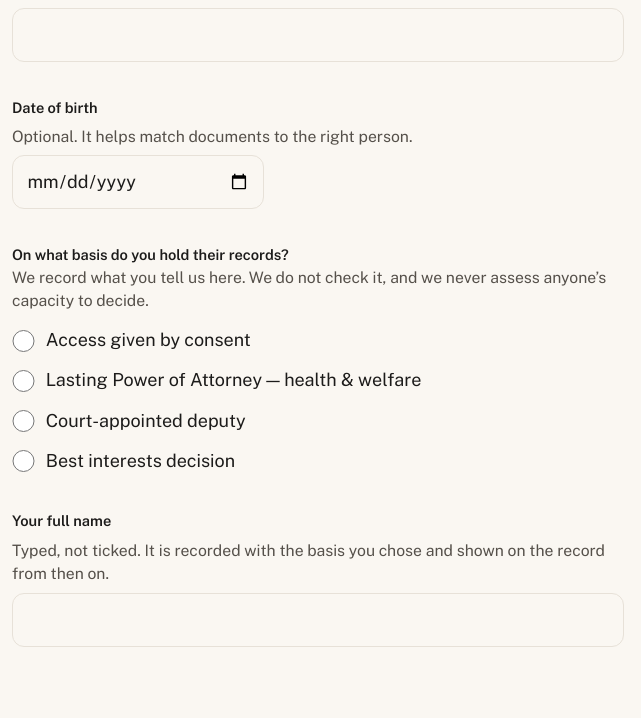
Test: WelcomeForm › blocks a missing basis, then a missing declared name, in that order
Type "Margaret Ellis" into the field labelled "Who are you caring for?". click: coordinates (318, 35)
box: x1=12 y1=8 x2=624 y2=62
(page scrolled)
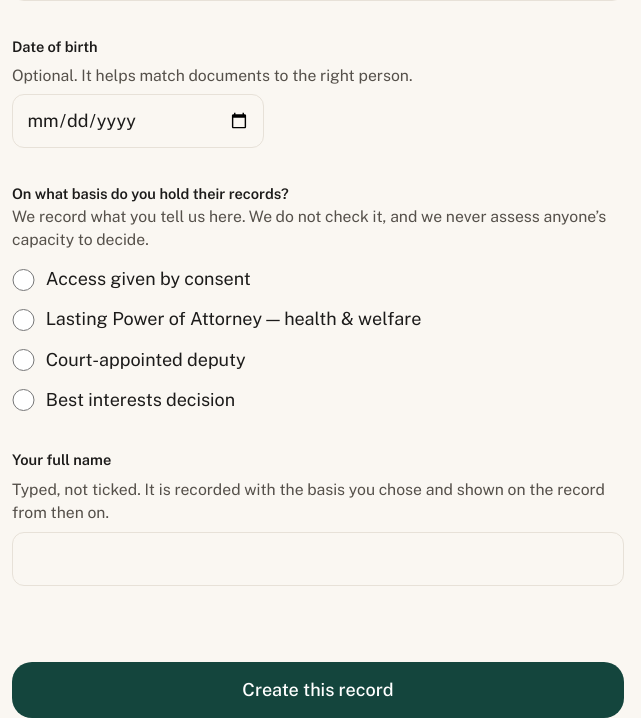
Click the button "Create this record". click: coordinates (318, 690)
box: x1=12 y1=662 x2=624 y2=717
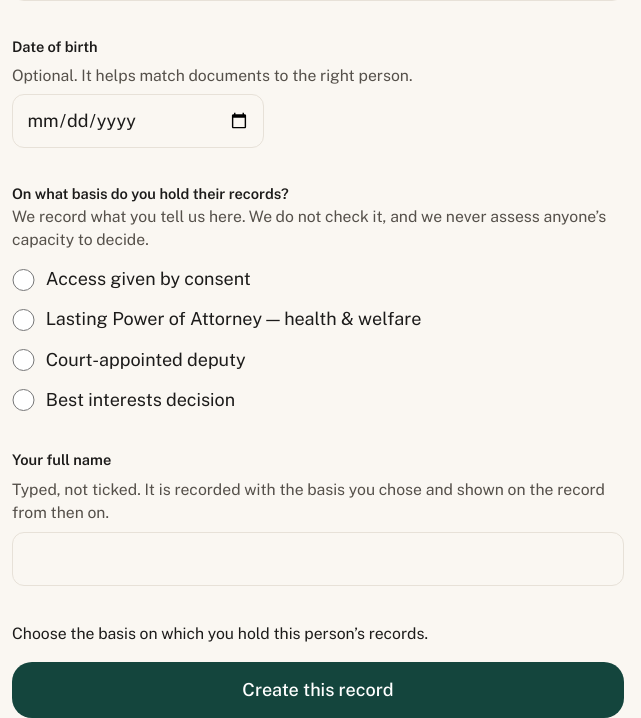
Now the text "Choose the basis on which you hold this person’s records." is shown, box x1=12 y1=624 x2=428 y2=643
Click the radio button labelled "Access given by consent". click: coordinates (23, 280)
box: x1=12 y1=268 x2=34 y2=291
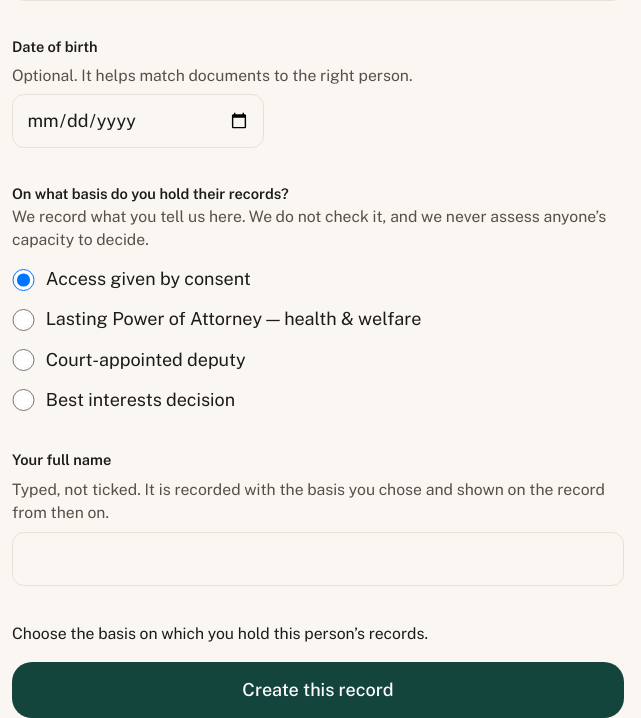
Click the button "Create this record". click: coordinates (318, 690)
box: x1=12 y1=662 x2=624 y2=717
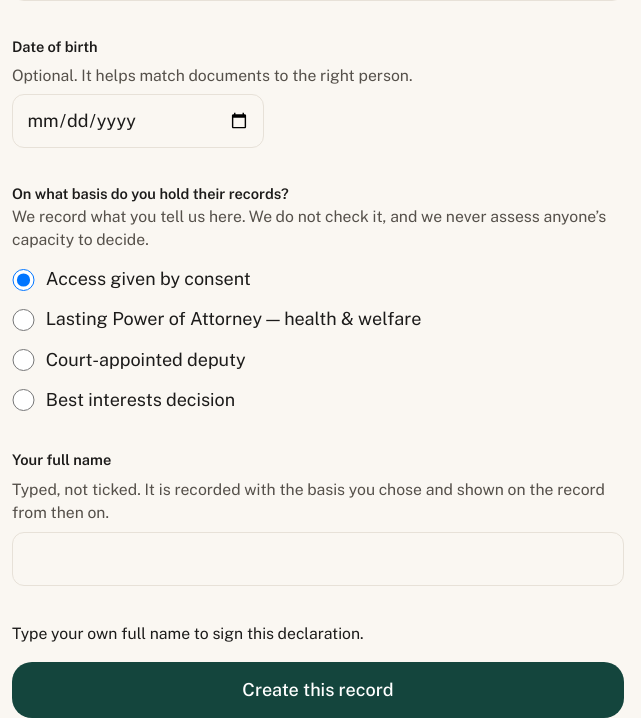
Now the text "Type your own full name to sign this declaration." is shown, box x1=12 y1=624 x2=364 y2=643
